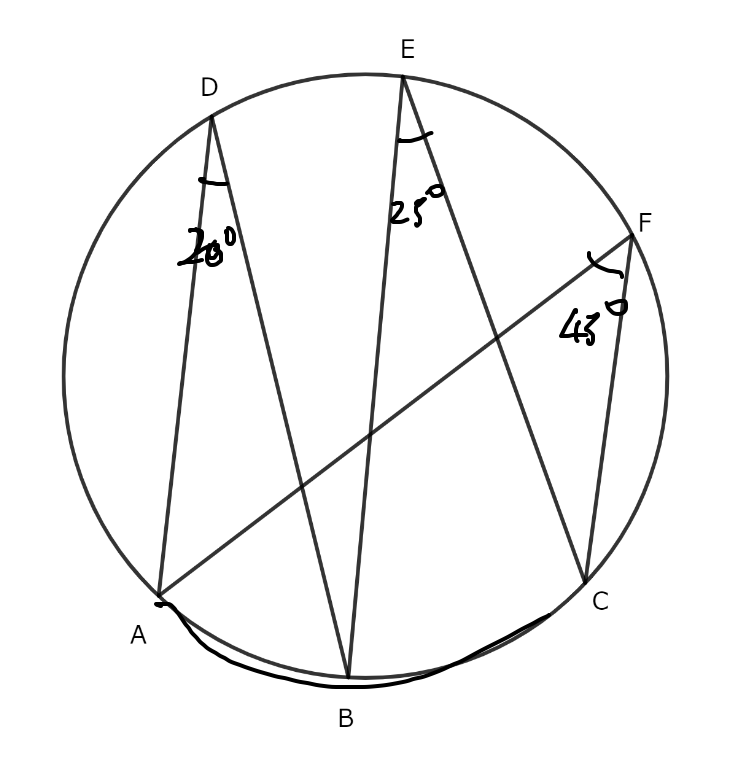Angle_Scurve: (579, 245, 632, 289), (391, 123, 441, 151), (192, 169, 238, 196)
